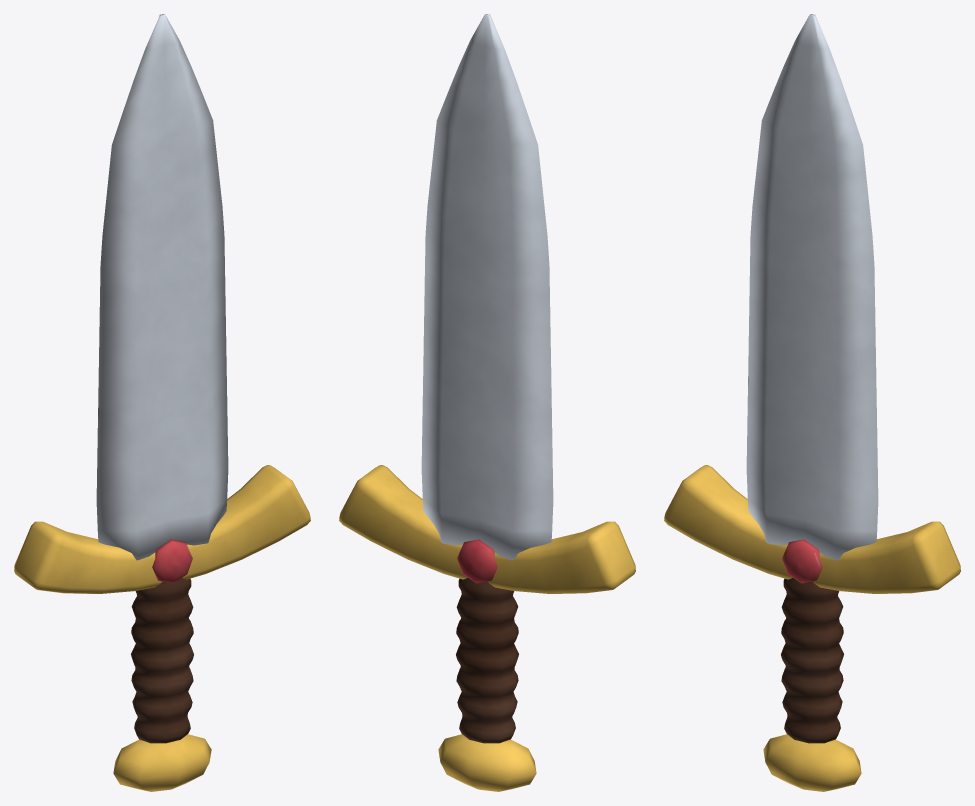
The model's file is wpn_sword.glb.
3 renders of one model, left to right at view 1: azimuth 30°, elevation 25°; view 2: azimuth 150°, elevation 25°; view 3: azimuth 330°, elevation 25°, orthographic.
Visible parts, largest first — view 1: wpn_sword; view 2: wpn_sword; view 3: wpn_sword.
Part boxes in pixels (x1,y1,x2,y2): wpn_sword: (14, 14, 310, 791); wpn_sword: (339, 14, 635, 791); wpn_sword: (664, 14, 960, 791).
Bounding box in the file's own units: 0.3949 × 1.05 × 0.0868.
Materials: 1 (1 with a texture image).
